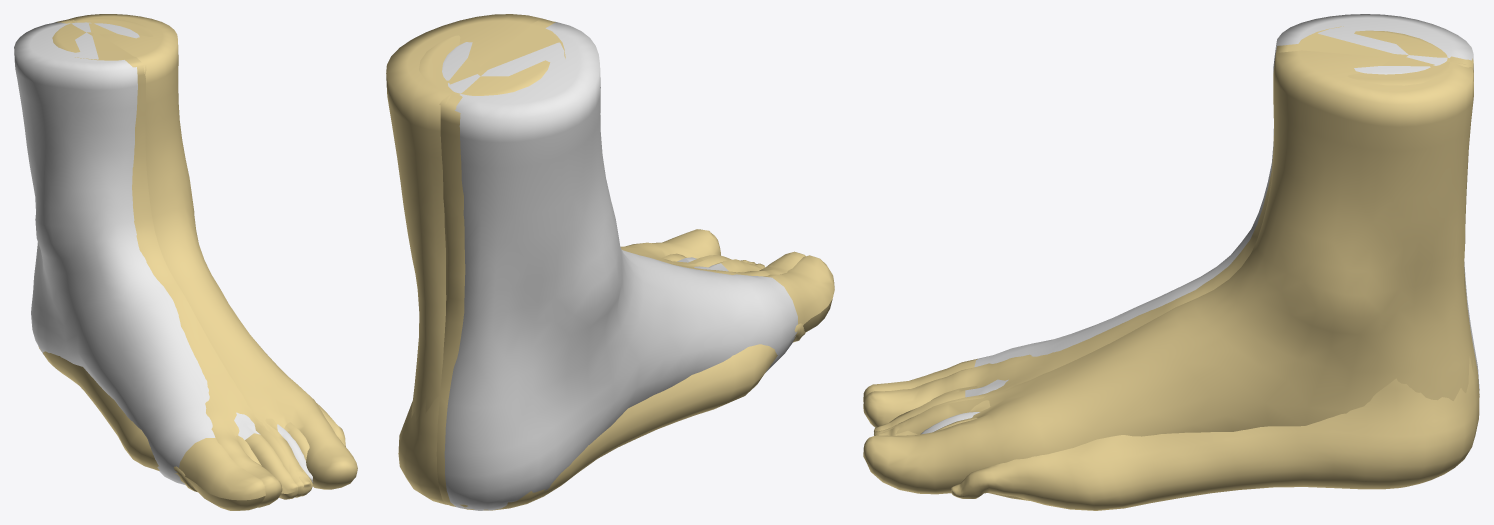
Rendered from LeftFootVColor.glb.
3 views of the same model, side by side, from view 1: azimuth 30°, elevation 25°; view 2: azimuth 150°, elevation 25°; view 3: azimuth 270°, elevation 25° (orthographic). The views are drawn at different scales.
Visible parts, largest first — view 1: Left Foot, Foot - Right, Foot - Left, Dorsal Toe 1, Dorsal Toe 2, Plantar Toe 1; view 2: Left Foot, Foot - Right, Foot - Left, Dorsal Toe 1; view 3: Foot - Right, Foot - Left, Left Foot, Dorsal Toe 1, Dorsal Toe 2.
Part boxes in pixels (x1,y1,x2,y2): Left Foot: [14, 22, 313, 484]; Foot - Right: [38, 14, 357, 497]; Foot - Left: [55, 19, 345, 507]; Dorsal Toe 1: [179, 438, 265, 500]; Dorsal Toe 2: [245, 433, 297, 493]; Plantar Toe 1: [180, 477, 265, 510]; Left Foot: [442, 21, 797, 510]; Foot - Right: [386, 14, 805, 510]; Foot - Left: [398, 18, 805, 504]; Dorsal Toe 1: [763, 255, 834, 325]; Foot - Right: [863, 30, 1479, 500]; Foot - Left: [863, 26, 1479, 510]; Left Foot: [920, 14, 1479, 434]; Dorsal Toe 1: [863, 358, 977, 401]; Dorsal Toe 2: [874, 390, 965, 432].
Size of the model in its own units: 0.0999 by 0.1781 by 0.2359.
